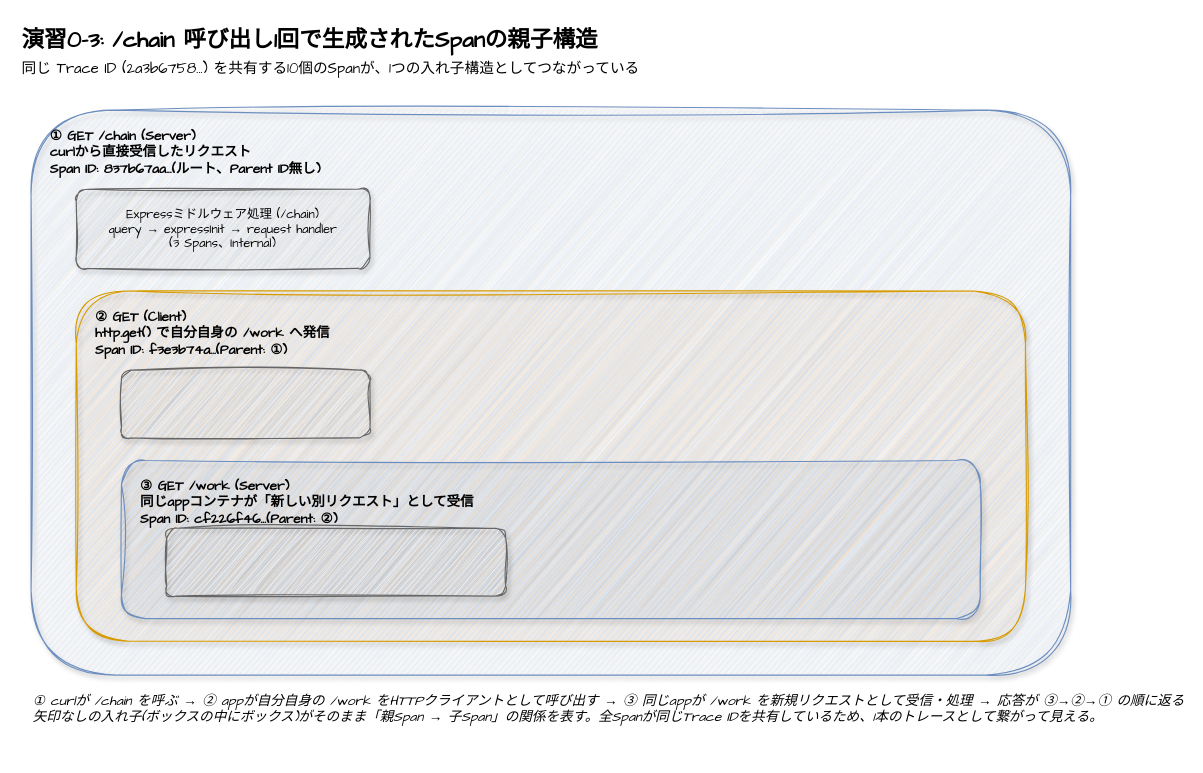
Some shapes in this 1203 by 773 pixel diagram are drawn without their labels. The centre of each missing label's shape, as x and y in pixels:
Expressミドルウェア処理 (/work) query → expressInit → request handler (3 Spans): point (336, 563)
tcp.connect Span ID: 27f47213...(Parent: ②): point (246, 405)
